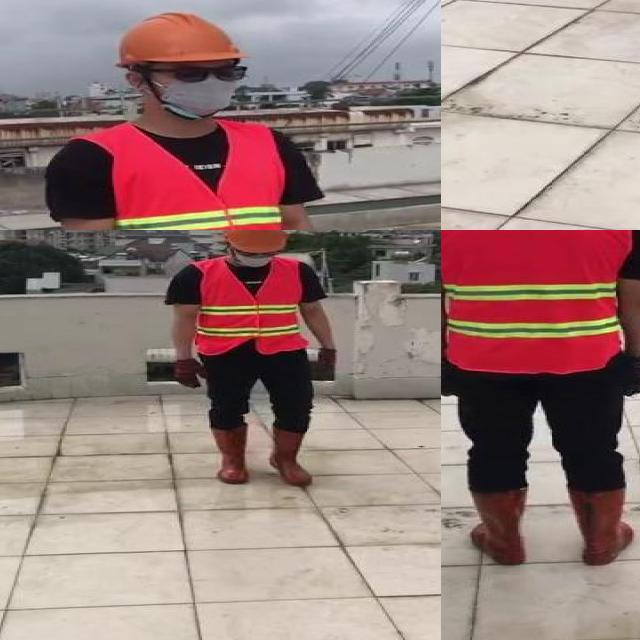boots: (568, 487, 636, 566), (467, 487, 529, 566), (272, 425, 320, 487), (208, 425, 254, 484)
face_mask: (156, 58, 246, 116), (234, 248, 279, 268)
glasses: (157, 61, 251, 86)
hand_glove: (170, 359, 209, 388), (621, 357, 640, 398), (441, 357, 459, 397), (318, 346, 339, 371)
head_helmet: (99, 9, 246, 70), (221, 230, 287, 255)
person: (31, 7, 345, 230), (441, 230, 640, 570), (162, 230, 348, 490)
vest: (441, 230, 630, 371), (114, 120, 300, 230), (192, 259, 304, 353)
